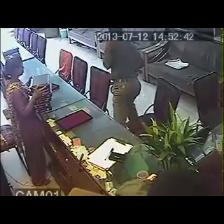person: (4, 56, 49, 186), (103, 40, 142, 126), (148, 171, 215, 195)
